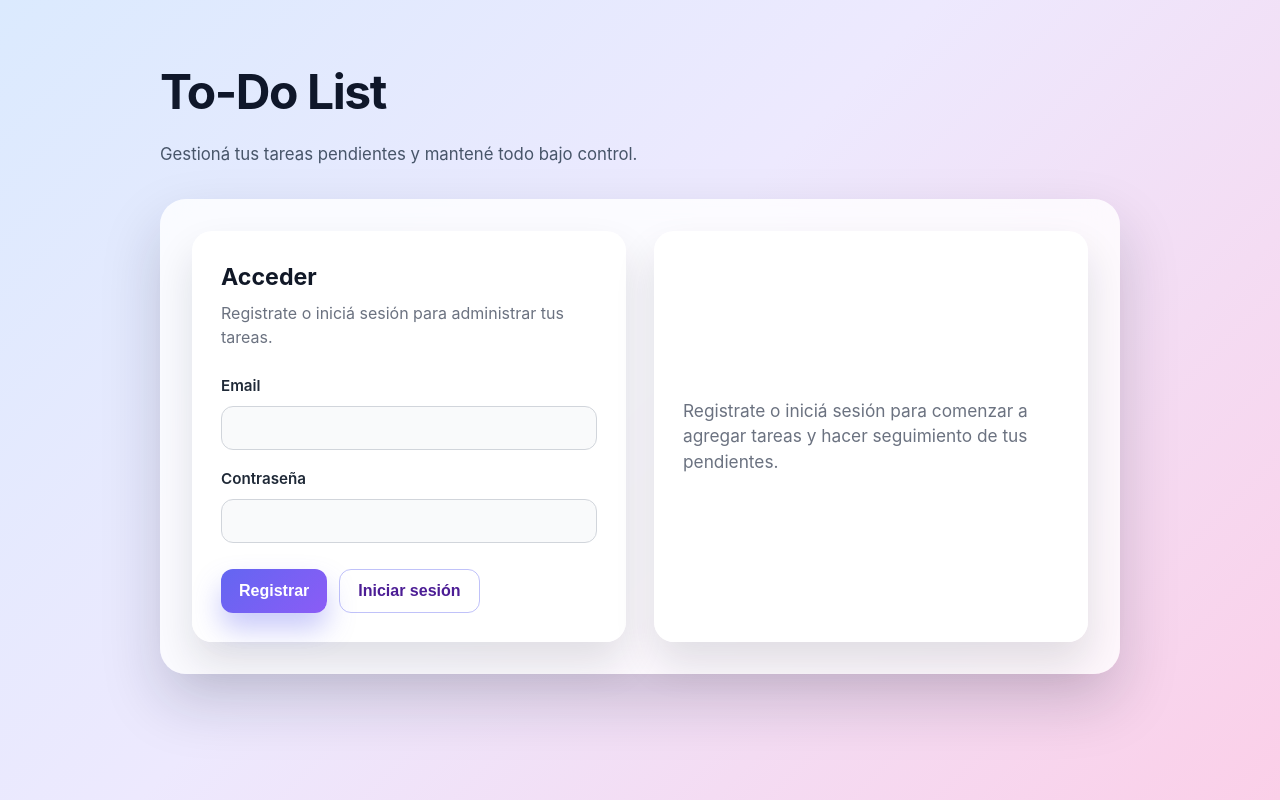
Scenario: Todos – flujos principales › Editar: modifica el título de una tarea existente
In the field named "Email": (409, 428) [221,406,597,450], type "cypress@example.com"
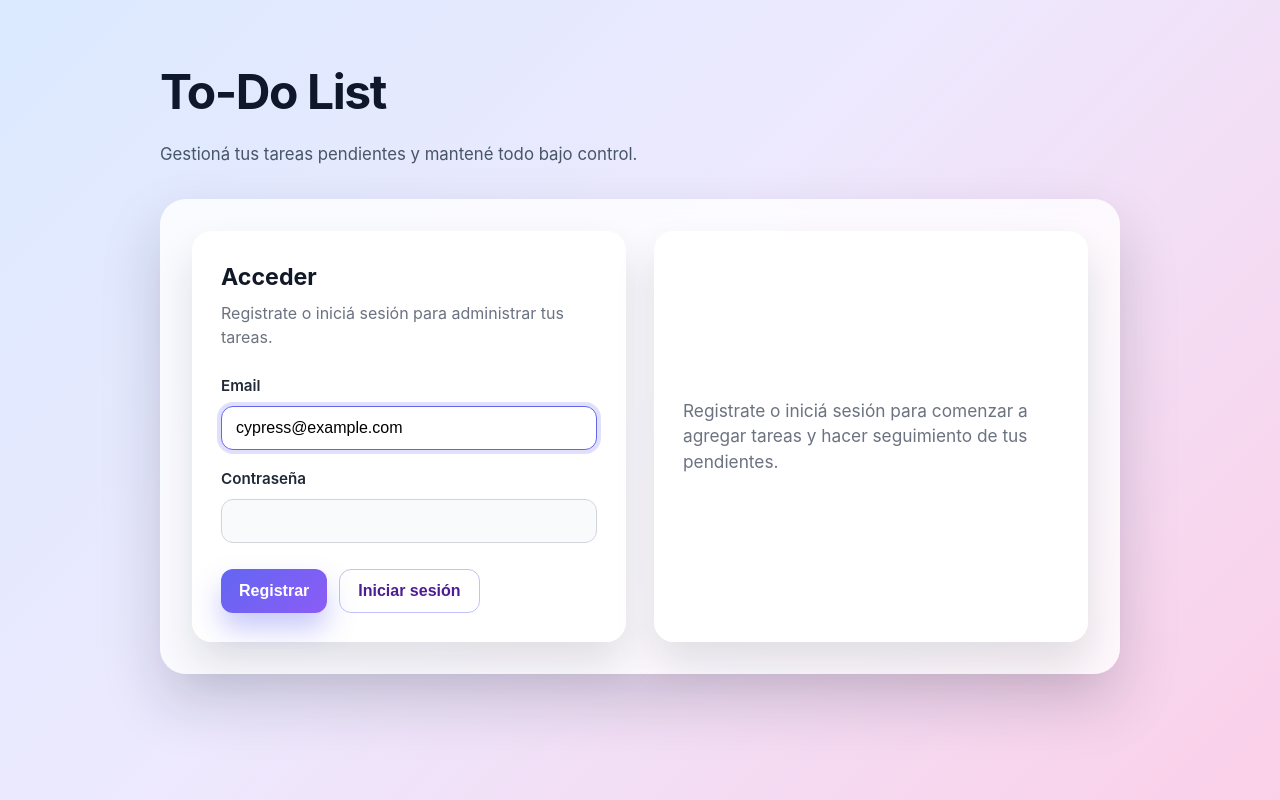
In the password field named "Contraseña": (409, 521) [221,499,597,543], type "superSecret123"
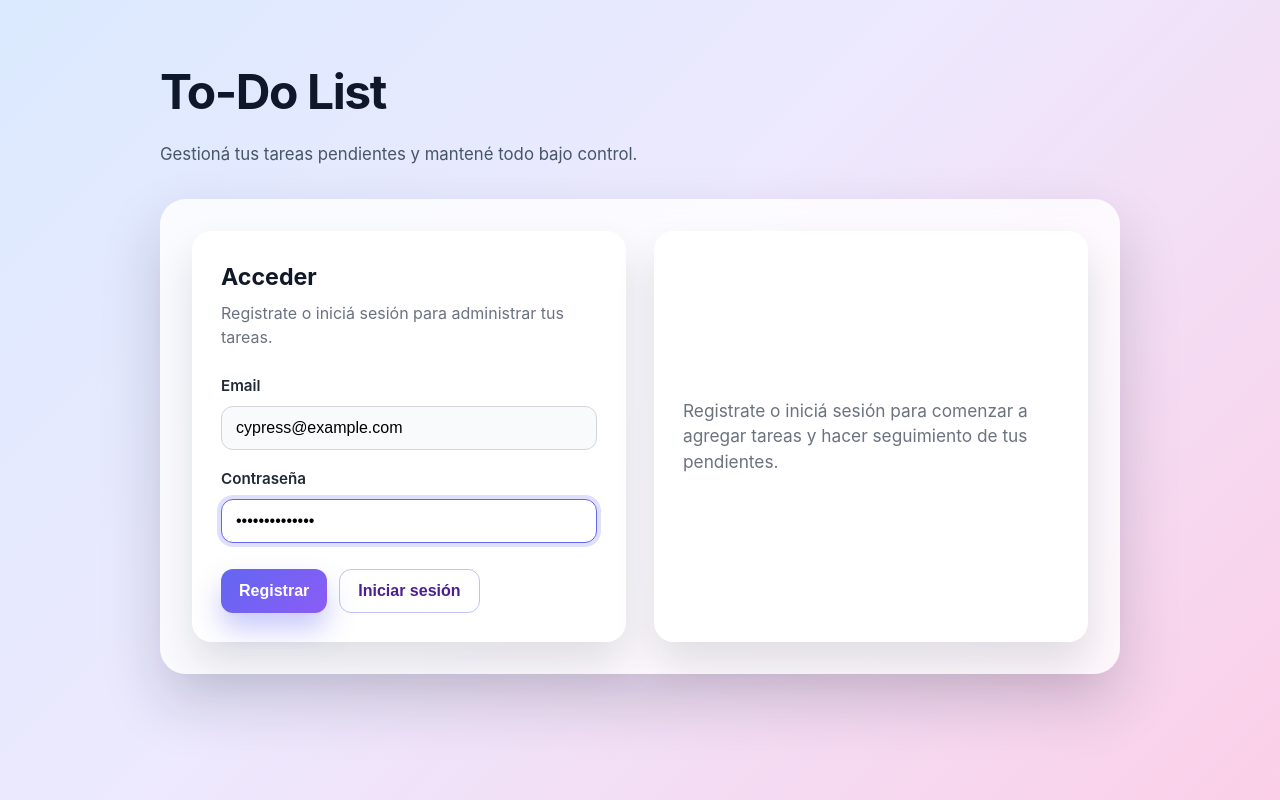
Click the button "Iniciar sesión": (409, 591) [339,569,479,613]
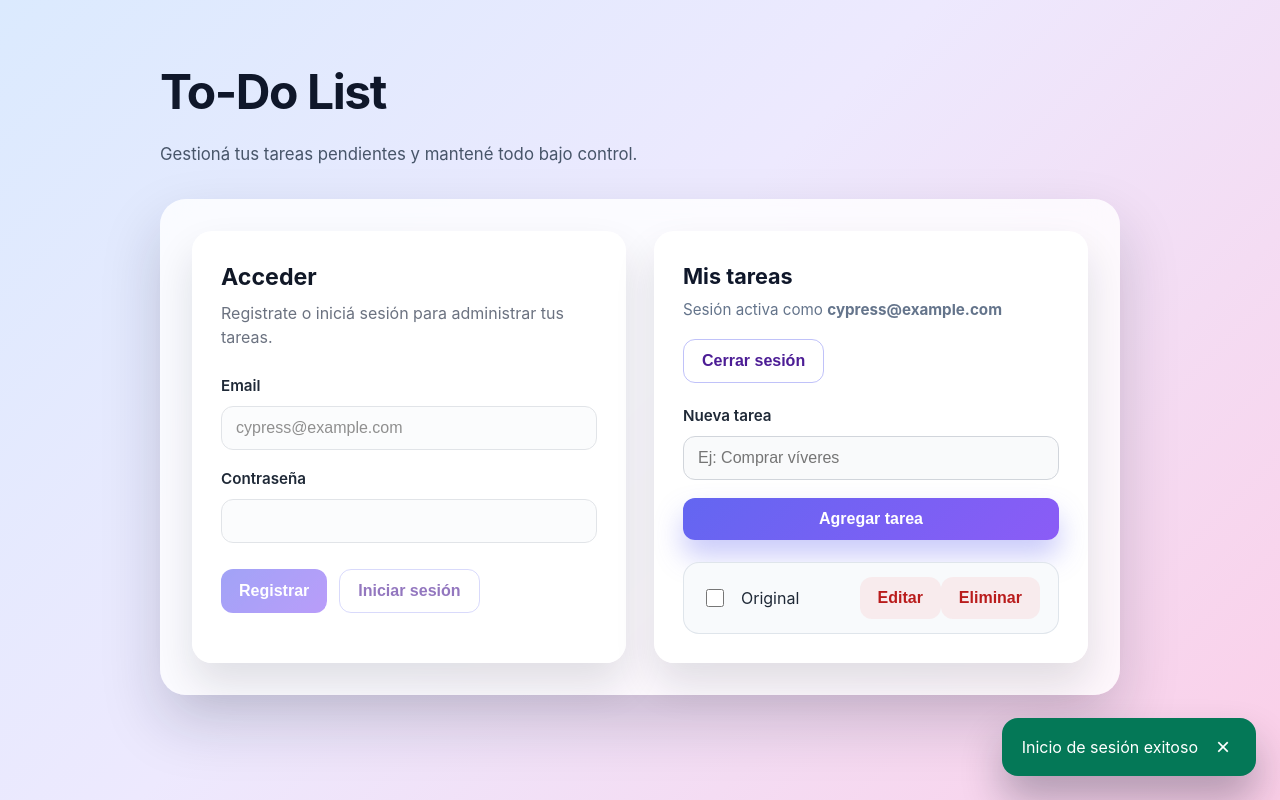
Click the button with test id "edit-10": (901, 598) [860,577,941,619]
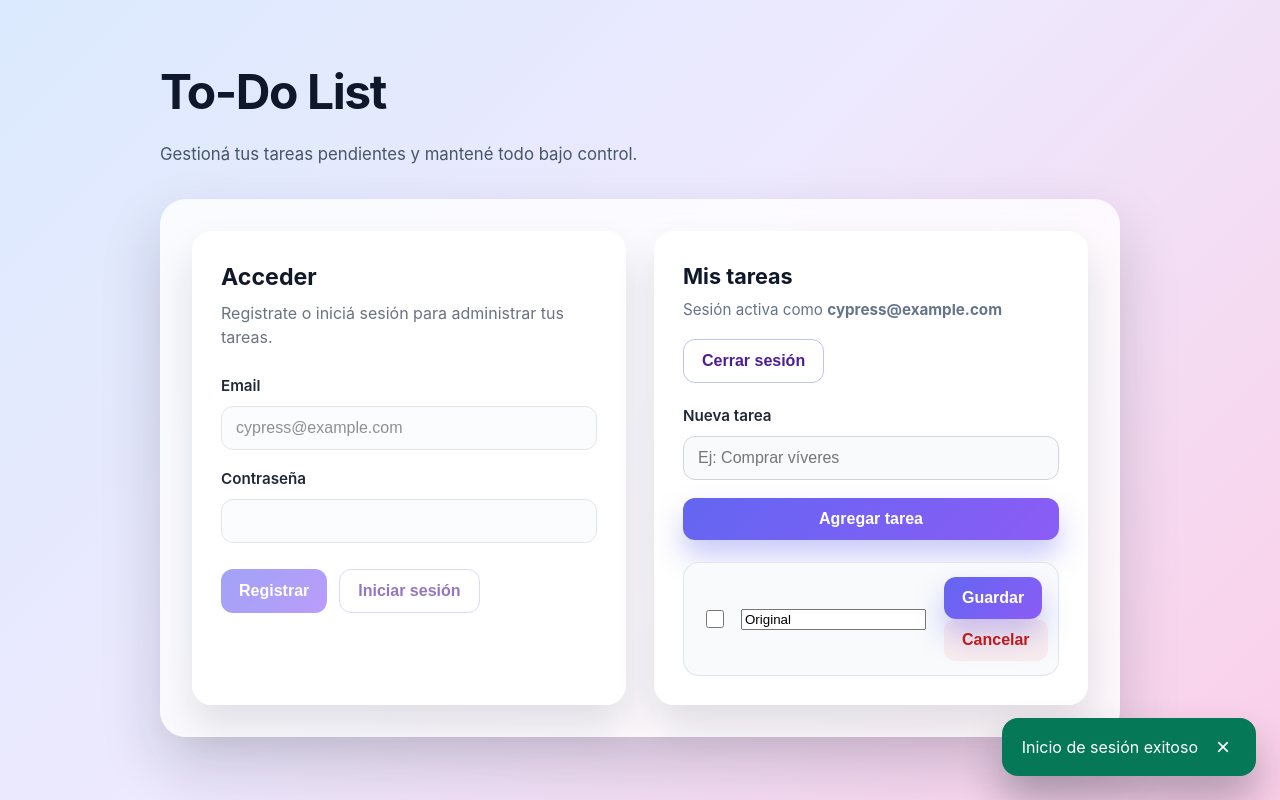
Replace the text in the field with test id "edit-input-10" with "Editada": (834, 620) [741,609,926,630]
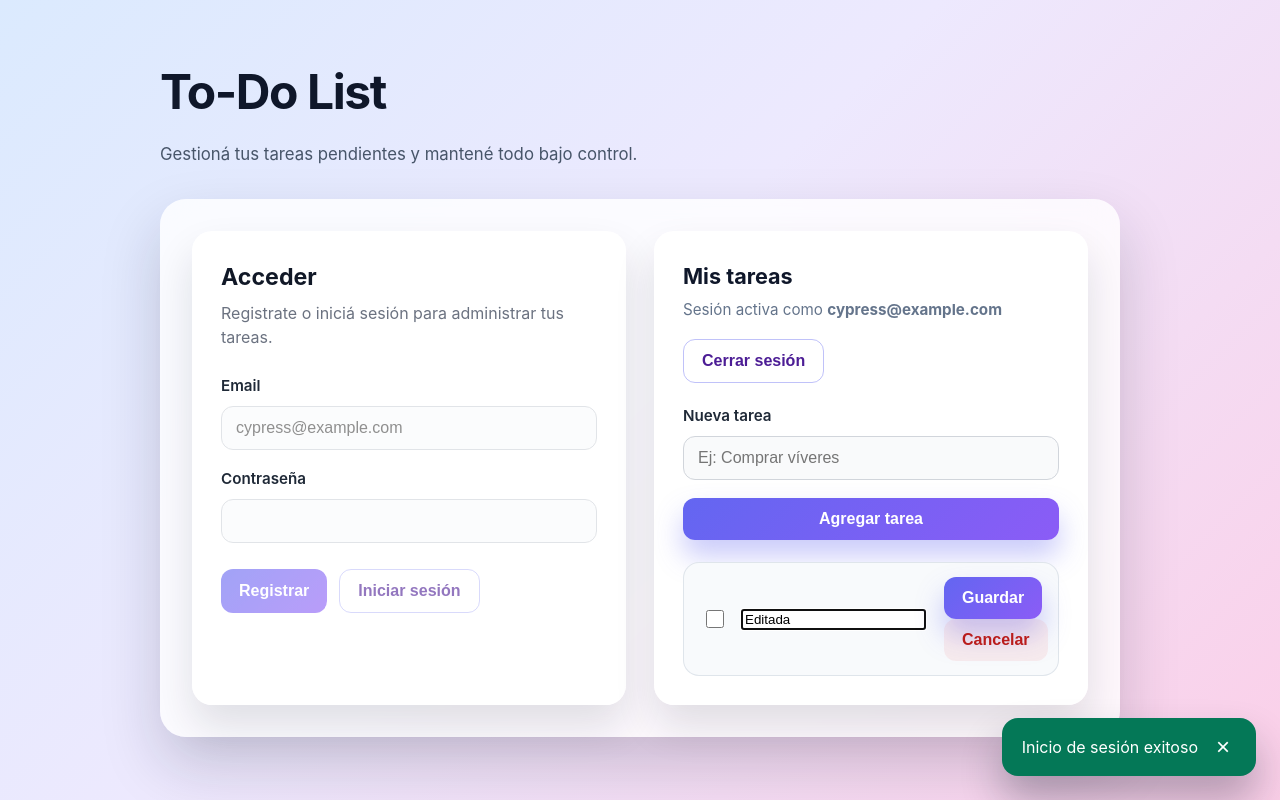
Click the button with test id "save-10": (993, 598) [944,577,1042,619]
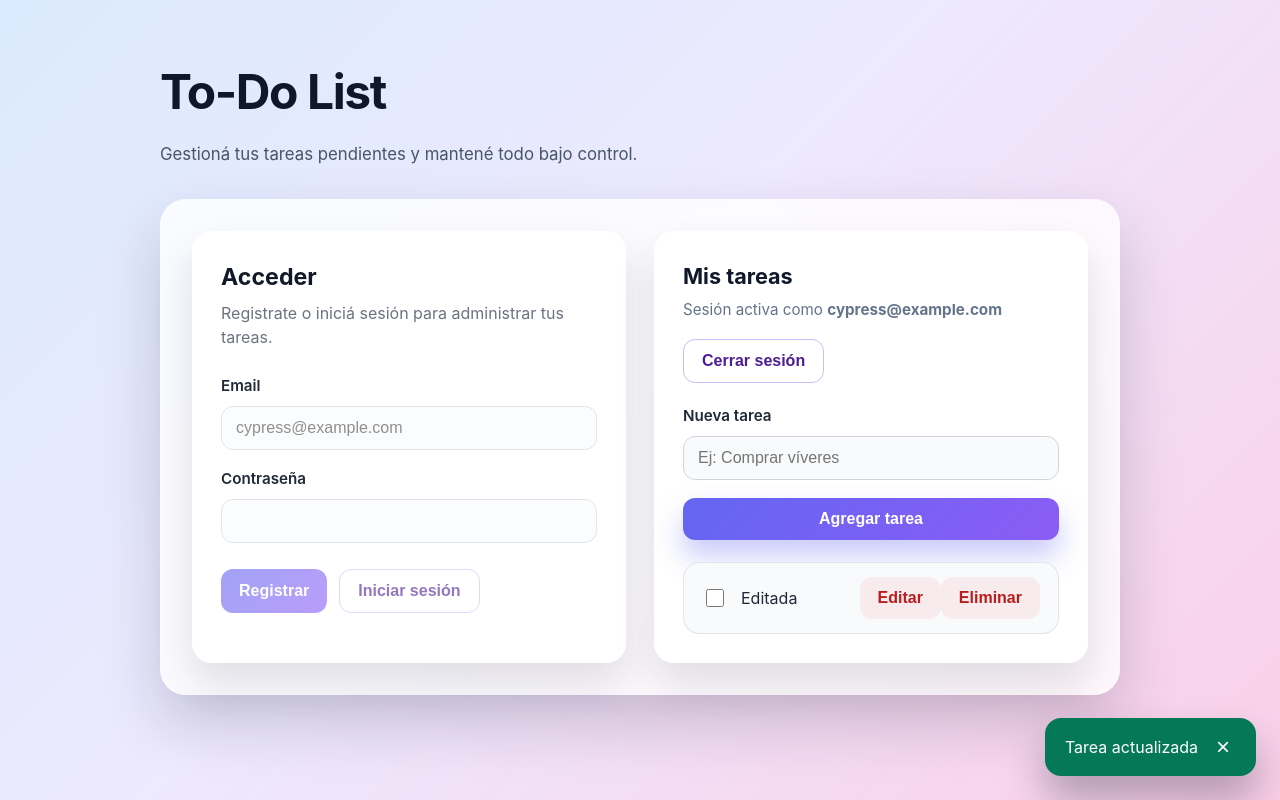
Expected: the list item "Editada" is shown, [741,588,797,608]
